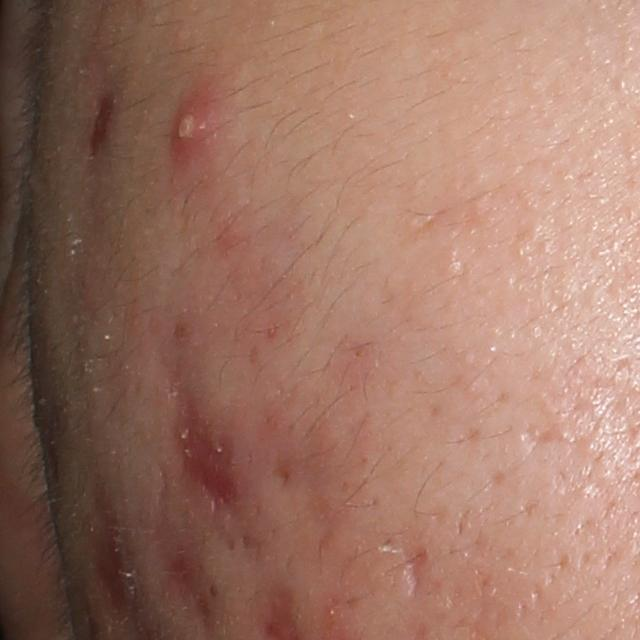atrophic_scar: (170, 370, 241, 519), (151, 524, 205, 615), (519, 423, 563, 450), (406, 546, 426, 599)
pustule: (167, 87, 215, 151)
